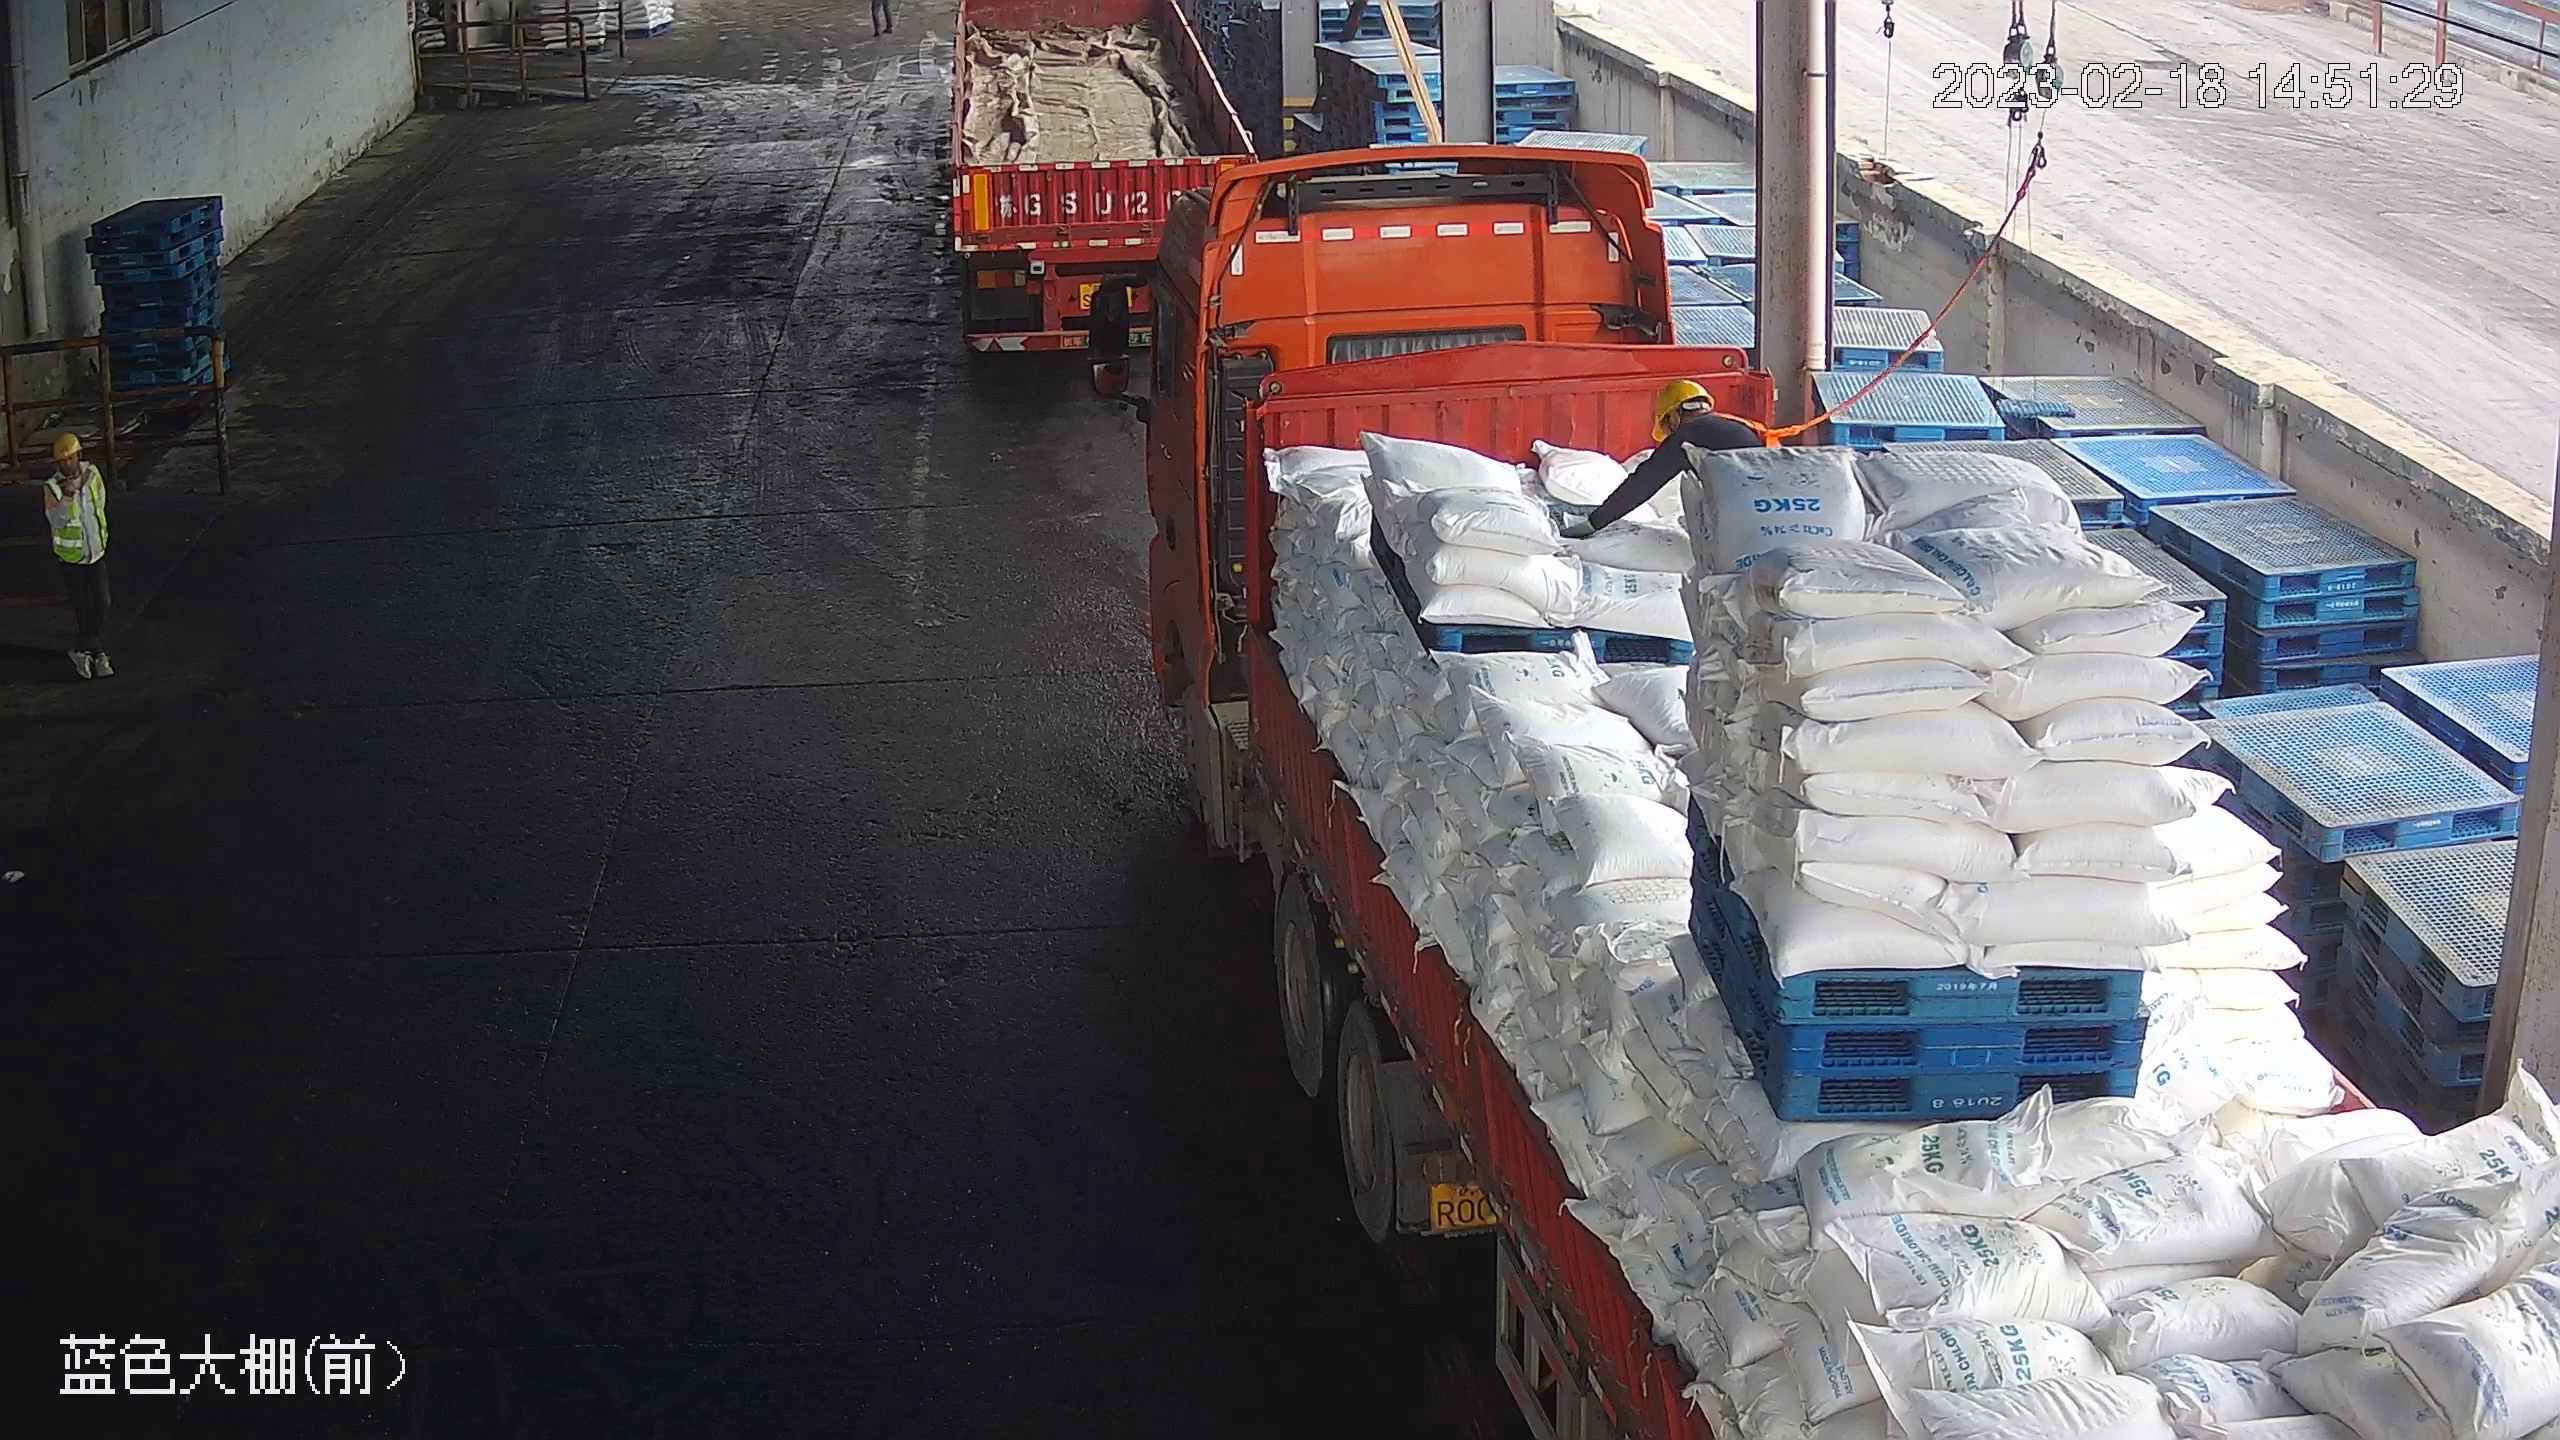belt: (1720, 412, 1778, 457)
head: (1646, 375, 1755, 461), (41, 429, 109, 500)
helmet: (1650, 375, 1711, 433), (52, 428, 85, 458)
people: (35, 426, 120, 687)
truck: (1071, 160, 2558, 1440), (925, 1, 1282, 393)
